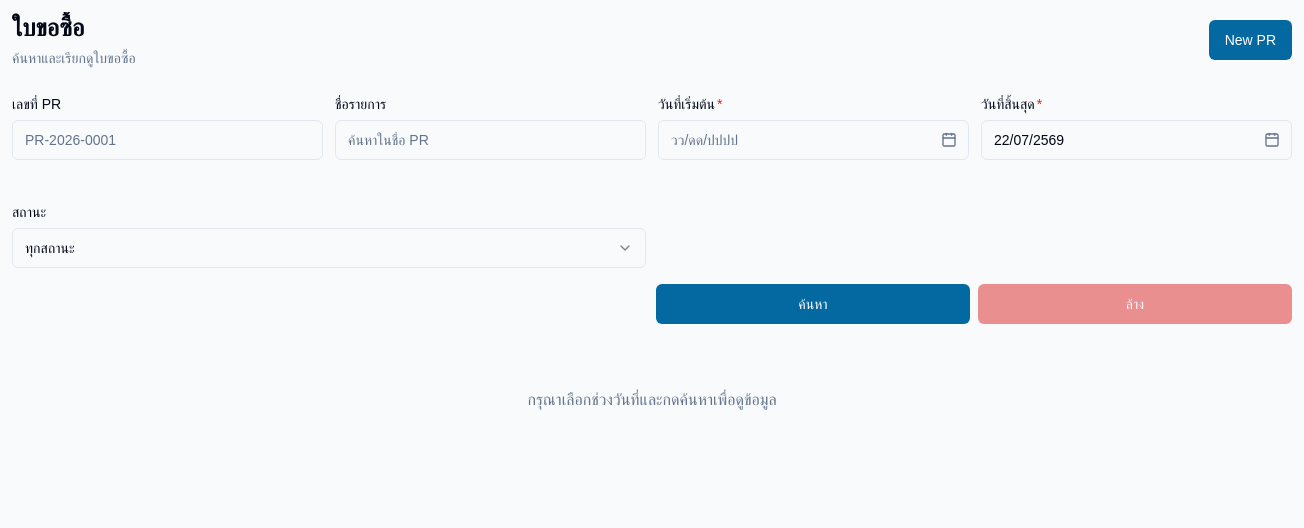
PRListPage › renders table with bg-table-header + table-fixed when data is loaded
Type "01012569" into the field labelled "วันที่เริ่มต้น*".
click(814, 140); type("01012569")  # box [658,120,969,160]
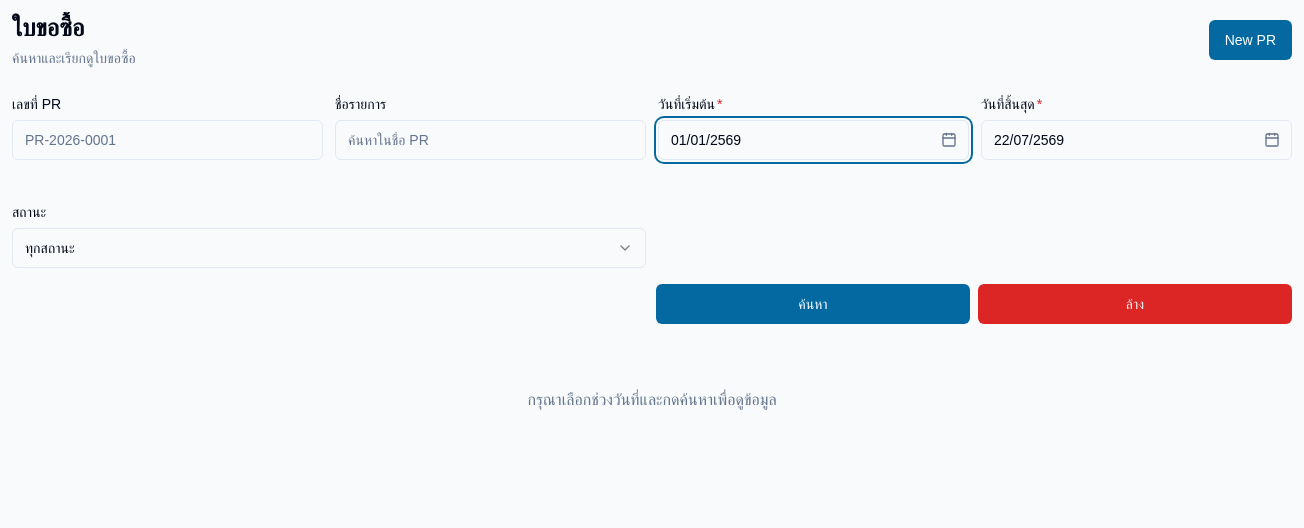
Replace the text in the field labelled "วันที่สิ้นสุด*" with "31122569" at (1136, 140), box [981,120,1292,160]
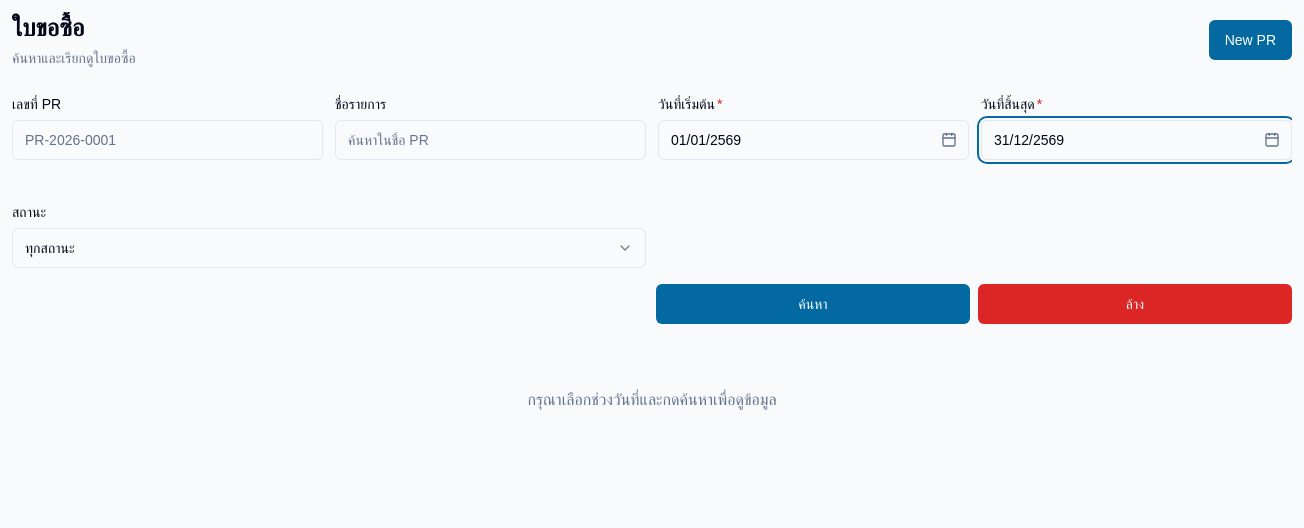
Click the button "ค้นหา".
click(813, 304)  # box [656,284,970,324]
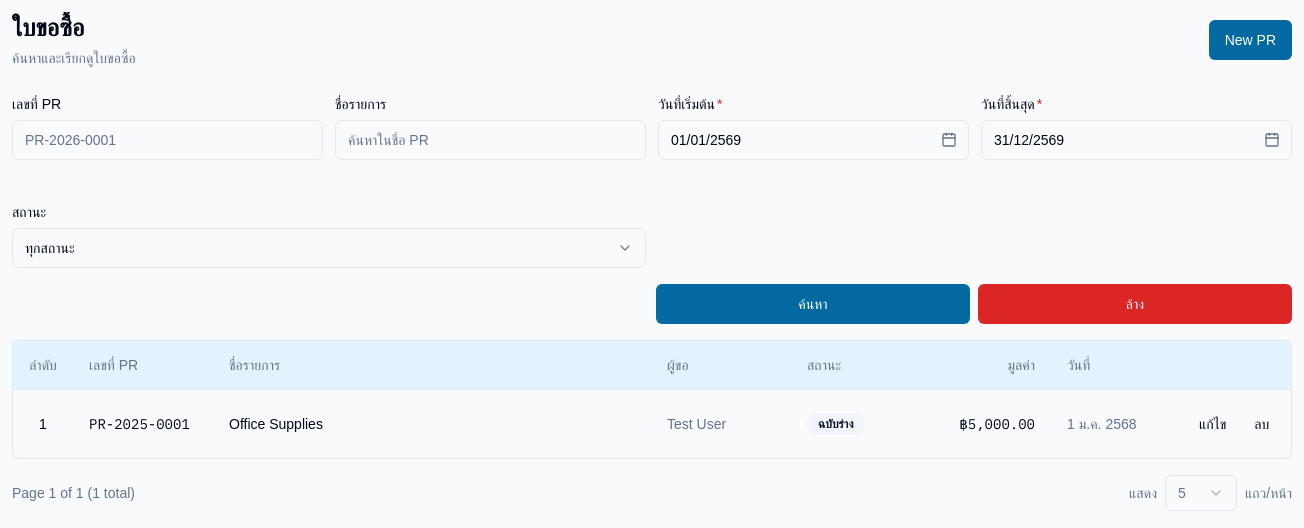
Check: the text "กรุณาเลือกช่วงวันที่และกดค้นหา" is gone
Check: the link "PR-2025-0001" is shown, box [89,414,190,432]
Check: the text "Office Supplies" is shown, box [213,389,651,458]
